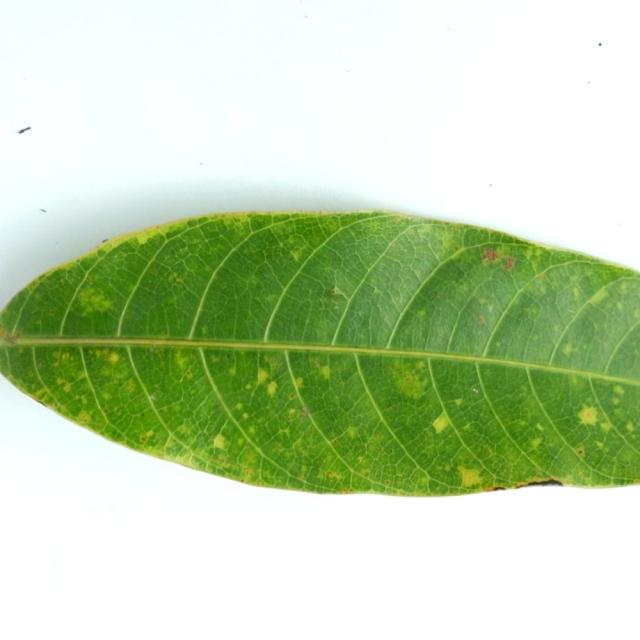Mango: (0, 212, 639, 495)
Powdery_Mildew: (390, 363, 429, 398), (76, 285, 114, 315), (459, 466, 485, 487), (254, 363, 272, 389), (577, 405, 599, 425), (440, 231, 460, 251), (171, 350, 190, 371), (587, 287, 609, 305), (432, 413, 450, 433), (130, 230, 152, 245), (213, 434, 227, 449), (265, 354, 280, 368), (168, 271, 184, 284), (77, 411, 91, 424), (345, 426, 358, 439), (266, 381, 277, 396), (107, 352, 120, 364), (290, 249, 302, 262), (246, 276, 260, 287), (265, 292, 279, 303), (561, 475, 576, 485), (562, 343, 573, 356), (320, 365, 330, 379), (326, 470, 340, 480), (530, 437, 542, 448), (613, 384, 625, 395), (35, 389, 48, 399), (300, 405, 310, 418), (126, 380, 136, 392), (177, 425, 189, 435), (572, 286, 581, 299), (143, 429, 154, 439), (372, 286, 383, 296), (418, 477, 428, 487), (63, 382, 72, 393), (416, 309, 426, 318), (234, 402, 243, 411), (61, 352, 70, 361), (329, 288, 338, 297), (295, 377, 303, 387), (477, 297, 487, 305), (477, 315, 485, 325), (626, 422, 634, 431), (184, 369, 192, 378), (454, 398, 463, 406), (535, 422, 543, 431), (244, 468, 252, 477), (577, 447, 585, 456), (229, 365, 236, 375), (288, 408, 296, 416), (596, 441, 604, 449), (200, 326, 207, 335), (56, 378, 64, 385), (248, 426, 255, 434), (222, 461, 230, 468), (245, 383, 252, 390), (242, 413, 249, 419), (140, 436, 147, 442), (102, 407, 108, 413)
